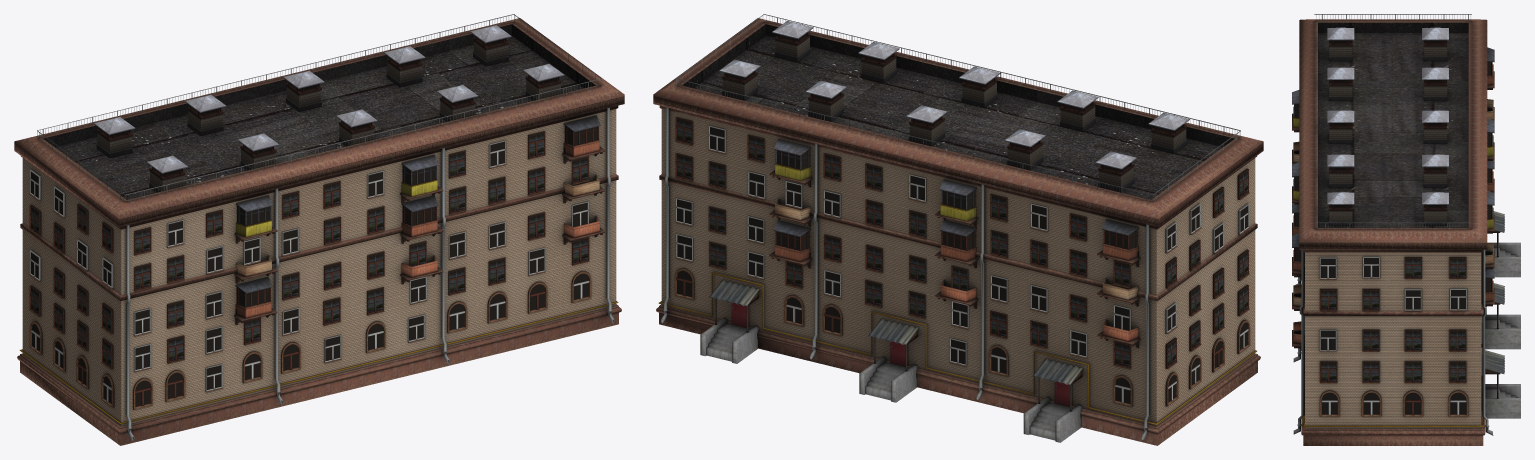
Rendered from old_city_building.glb.
3 renders of one model, left to right at view 1: azimuth 30°, elevation 25°; view 2: azimuth 150°, elevation 25°; view 3: azimuth 270°, elevation 25°, orthographic. The views are drawn at different scales.
Parts seen in each view (by area): view 1: building; view 2: building; view 3: building.
Part boxes in pixels (<box>): building: <box>14,14,624,445</box>; building: <box>653,14,1263,445</box>; building: <box>1292,14,1520,445</box>.
Size of the model in its own units: 7.3 by 3.54 by 3.19.
Materials: 3 (3 with a texture image).
